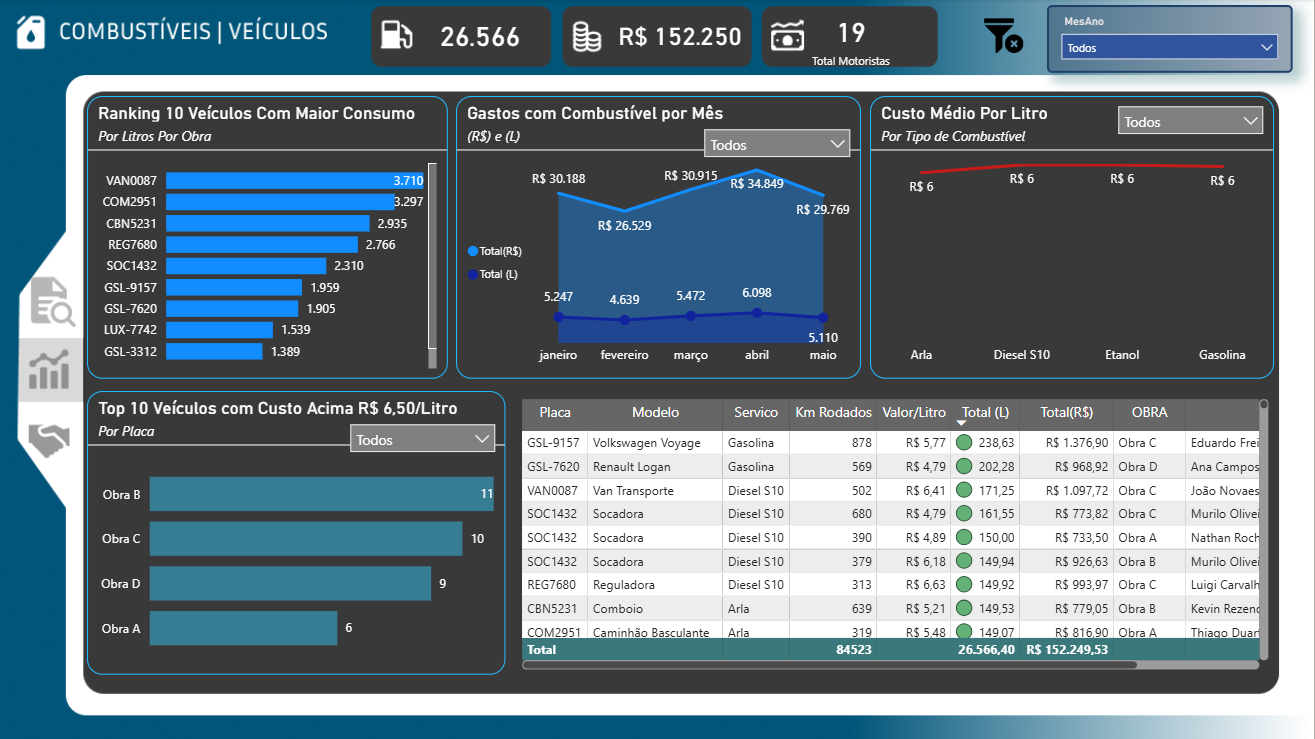

The dashboard page shown, as its layout file describes it:
{"tool":"powerbi","page":{"name":"Veículos","canvas":[1280,720],"ordinal":1},"visuals":[{"type":"card","fields":{"Values":["MEDIDAS.Total(R$)"]},"box":[583.9,6.1,159.8,58.8],"z":0},{"type":"card","fields":{"Values":["MEDIDAS.Total (L)"]},"box":[389,6.1,159.8,58.8],"z":1000},{"type":"barChart","title":"Ranking 10 Veículos Com Maior Consumo","fields":{"Category":["T_Log_2025.Placa"],"Y":["MEDIDAS.Total (L)"]},"box":[86.6,94.3,351.1,275.3],"z":3000},{"type":"barChart","title":"Top 10 Veículos com Custo Acima R$ 6,50/Litro","fields":{"Category":["T_Log_2025.OBRA"],"Y":["MEDIDAS.VeiculosAcima6.50"]},"box":[86.6,381.3,406.6,276.2],"z":4000},{"type":"slicer","title":"MÉDIA PESSOAS ALOJADAS/DIA","fields":{"Values":["CALENDARIO.MesAno"]},"box":[1020.3,5.8,239.3,66.1],"z":5000},{"type":"lineChart","title":"Custo Médio Por Litro","fields":{"Category":["T_Log_2025.Servico","CALENDARIO.DATA.Variation.Hierarquia de datas.Ano","CALENDARIO.DATA.Variation.Hierarquia de datas.Trimestre","CALENDARIO.DATA.Variation.Hierarquia de datas.Mês","CALENDARIO.DATA.Variation.Hierarquia de datas.Dia"],"Y":["MEDIDAS.TickeMédio"]},"box":[848.1,94.3,392.9,275.3],"z":6000},{"type":"tableEx","title":"Resumo","fields":{"Values":["T_Log_2025.Placa","T_Log_2025.Modelo","T_Log_2025.Servico","Sum(T_Log_2025.Km Rodados)","T_Log_2025.Valor/Litro","MEDIDAS.Total (L)","MEDIDAS.Total(R$)","T_Log_2025.OBRA","T_Log_2025.Motorista"]},"box":[503.8,384.2,737.3,273.3],"z":7000},{"type":"slicer","fields":{"Values":["T_Log_2025.Servico"]},"box":[1079.6,94.3,161.5,64.2],"z":8000},{"type":"areaChart","title":"Gastos com Combustível por Mês","fields":{"Category":["CALENDARIO.DATA.Variation.Hierarquia de datas.Ano","CALENDARIO.DATA.Variation.Hierarquia de datas.Trimestre","CALENDARIO.DATA.Variation.Hierarquia de datas.Mês","CALENDARIO.DATA.Variation.Hierarquia de datas.Dia","T_Log_2025.OBRA"],"Y":["MEDIDAS.Total(R$)","MEDIDAS.Total (L)"]},"box":[445.5,94.3,393.9,275.3],"z":9000},{"type":"slicer","fields":{"Values":["T_Log_2025.Placa"]},"box":[332.7,403.9,161,55],"z":10000},{"type":"image","box":[954.2,11.7,47.7,47.7],"z":11000},{"type":"slicer","fields":{"Values":["T_Log_2025.OBRA"]},"box":[677,116.7,162.4,57.4],"z":12000},{"type":"actionButton","box":[25.3,275.3,52.5,38.9],"z":13000},{"type":"actionButton","box":[25.3,339.5,52.5,38.9],"z":14000},{"type":"actionButton","box":[25.5,411.8,52.7,38.6],"z":15000},{"type":"card","fields":{"Values":["MEDIDAS.Motoristastotal"]},"box":[749.9,0,159.5,76.8],"z":15001}]}

Visuals, with their boxes in screenshot pixels (x1, y1, x2, y2), scaled from the page's 1280x720 canvas onto the 1315x739 screenshot:
card - MEDIDAS.Total(R$): [left=600, top=6, right=764, bottom=67]
card - MEDIDAS.Total (L): [left=400, top=6, right=564, bottom=67]
"Ranking 10 Veículos Com Maior Consumo" barChart: [left=89, top=97, right=450, bottom=379]
"Top 10 Veículos com Custo Acima R$ 6,50/Litro" barChart: [left=89, top=391, right=507, bottom=675]
"MÉDIA PESSOAS ALOJADAS/DIA" slicer: [left=1048, top=6, right=1294, bottom=74]
"Custo Médio Por Litro" lineChart: [left=871, top=97, right=1275, bottom=379]
"Resumo" tableEx: [left=518, top=394, right=1275, bottom=675]
slicer - T_Log_2025.Servico: [left=1109, top=97, right=1275, bottom=163]
"Gastos com Combustível por Mês" areaChart: [left=458, top=97, right=862, bottom=379]
slicer - T_Log_2025.Placa: [left=342, top=415, right=507, bottom=471]
image: [left=980, top=12, right=1029, bottom=61]
slicer - T_Log_2025.OBRA: [left=696, top=120, right=862, bottom=179]
actionButton: [left=26, top=283, right=80, bottom=322]
actionButton: [left=26, top=348, right=80, bottom=388]
actionButton: [left=26, top=423, right=80, bottom=462]
card - MEDIDAS.Motoristastotal: [left=770, top=0, right=934, bottom=79]
